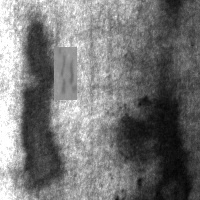inclusion: (54, 47, 77, 100)
patches: (116, 87, 192, 199), (21, 17, 64, 189), (161, 1, 187, 16)
